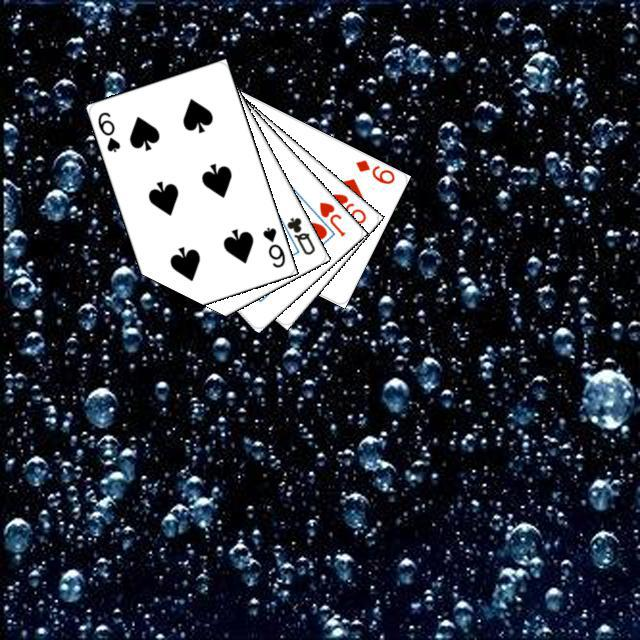6s: (258, 222, 287, 269), (93, 107, 122, 154)
9d: (350, 155, 396, 186)
9h: (327, 188, 368, 226)
Jh: (314, 197, 347, 238)
Qc: (275, 212, 317, 257)
